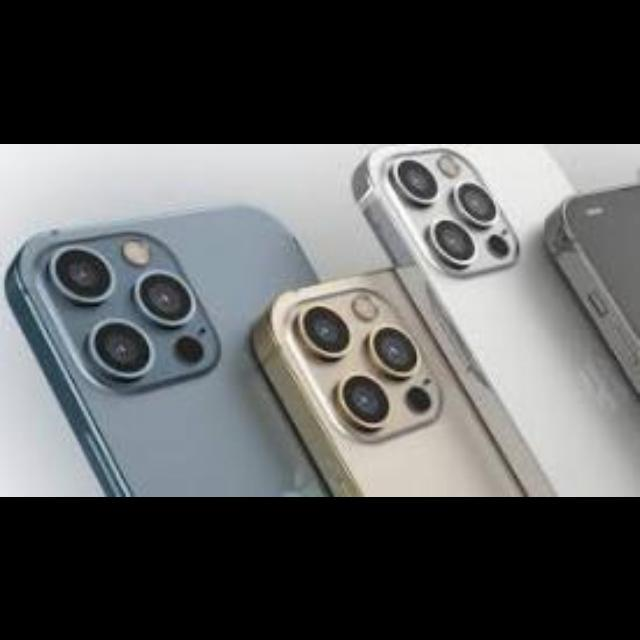Phone: (5, 197, 335, 497), (348, 144, 578, 496), (256, 267, 458, 497)
